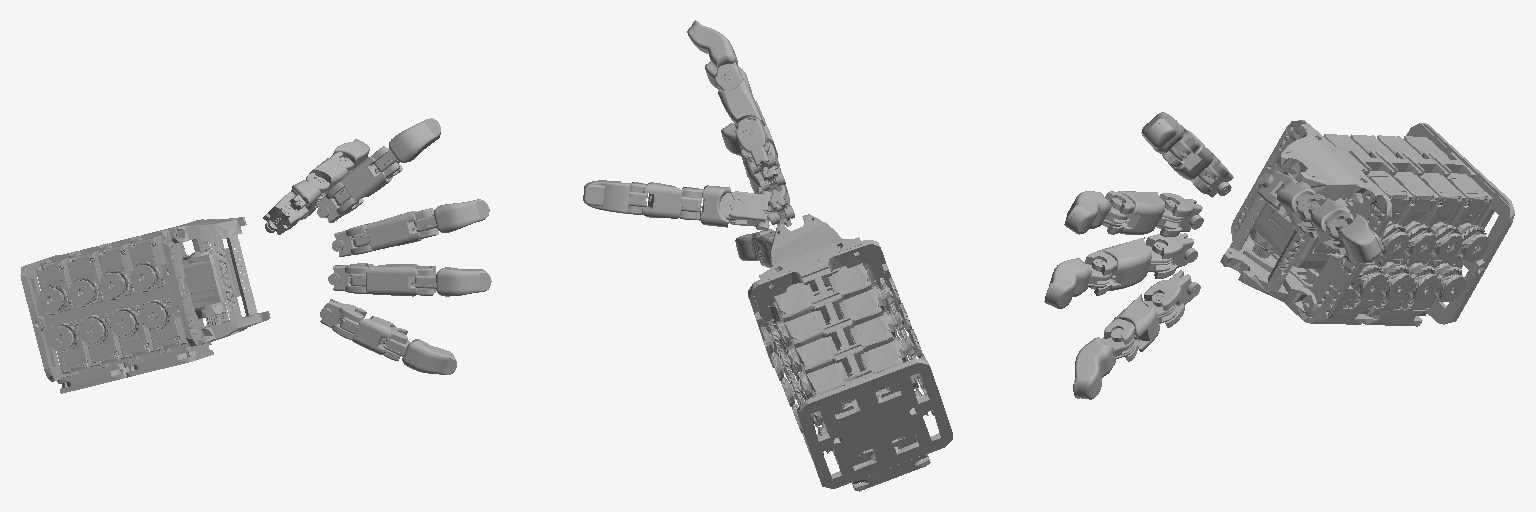
--- What the picture shows (computed from the rendered views, not written in the file) ---
Views: 3 orthographic renders of the robot side by side, from view 1: azimuth 30°, elevation 25°; view 2: azimuth 150°, elevation 25°; view 3: azimuth 270°, elevation 25°.
Robot: orca_v1 — 71 links, 70 joints (17 revolute, 53 fixed); root link eef_link; default pose: all joints at 0.
Visible links, largest first — view 1: tower, ring_pp, middle_pp, index_pp, index_mp, pinky_mp, ring_mp, middle_mp, pinky_pp, thumb_base, pinky_um, thumb_pp (+5 smaller); view 2: tower, thumb_mp, index_pp, thumb_pp, thumb_dp, index_mp, thumb_base, index_um, ring_um, middle_um, pinky_mp; view 3: tower, ring_pp, pinky_mp, middle_pp, pinky_pp, ring_mp, middle_mp, thumb_dp, index_mp, pinky_um, thumb_mp, index_pp (+5 smaller).
Link boxes in pixels (left/top/right/bottom): tower: left=20, top=217, right=270, bottom=393; ring_pp: left=350, top=264, right=435, bottom=296; middle_pp: left=352, top=208, right=438, bottom=250; index_pp: left=333, top=146, right=402, bottom=205; index_mp: left=374, top=118, right=440, bottom=171; pinky_mp: left=383, top=332, right=456, bottom=374; ring_mp: left=415, top=267, right=491, bottom=296; middle_mp: left=414, top=199, right=489, bottom=232; pinky_pp: left=340, top=312, right=407, bottom=360; thumb_base: left=263, top=192, right=308, bottom=234; pinky_um: left=320, top=299, right=366, bottom=339; thumb_pp: left=288, top=173, right=329, bottom=219; tower: left=748, top=214, right=952, bottom=491; thumb_mp: left=625, top=182, right=701, bottom=218; index_pp: left=714, top=65, right=767, bottom=143; thumb_pp: left=680, top=185, right=742, bottom=227; thumb_dp: left=583, top=180, right=647, bottom=213; index_mp: left=687, top=20, right=742, bottom=90; thumb_base: left=729, top=191, right=772, bottom=230; index_um: left=735, top=120, right=776, bottom=173; ring_um: left=757, top=185, right=794, bottom=226; middle_um: left=747, top=142, right=785, bottom=193; pinky_mp: left=735, top=229, right=773, bottom=260; tower: left=1220, top=120, right=1514, bottom=326; ring_pp: left=1085, top=237, right=1172, bottom=295; pinky_mp: left=1073, top=328, right=1134, bottom=399; middle_pp: left=1105, top=191, right=1182, bottom=234; pinky_pp: left=1104, top=293, right=1176, bottom=361; ring_mp: left=1044, top=258, right=1111, bottom=308; middle_mp: left=1064, top=191, right=1127, bottom=234; thumb_dp: left=1329, top=214, right=1383, bottom=263; index_mp: left=1141, top=112, right=1191, bottom=160; pinky_um: left=1144, top=270, right=1200, bottom=327; thumb_mp: left=1300, top=198, right=1353, bottom=254; index_pp: left=1160, top=125, right=1218, bottom=184.
Size in the robot's own frame: 0.2639 by 0.2568 by 0.2153 metres.
17 mesh visuals loaded from 10 distinct referenced files (9 binary STL); not drawn: 1 (reference not matched to a file when rendering).

URDF robot description (orca_v1):
<?xml version="1.0" ?>
<!-- =================================================================================== -->
<!-- |    This document was autogenerated by xacro from [local-path]/PCHands/adf/../assets/orca_v1/model_klampt.urdf | -->
<!-- |    EDITING THIS FILE BY HAND IS NOT RECOMMENDED                                 | -->
<!-- =================================================================================== -->
<!--
SPDX-FileCopyrightText: 2025 Humanoid Sensing and Perception, Istituto Italiano di Tecnologia
SPDX-License-Identifier: BSD-3-Clause
-->
<robot name="orca_v1">
  <!--  palm frame  -->
  <link name="eef_link">
    <inertial>
      <origin rpy="0 0 0" xyz="0 0 0"/>
      <mass value="0.0001"/>
      <inertia ixx="1e-5" ixy="0" ixz="0" iyy="1e-5" iyz="0" izz="1e-5"/>
    </inertial>
  </link>
  <joint name="r_eef_calib_joint" type="fixed">
    <parent link="eef_link"/>
    <child link="eef_calib_link"/>
    <origin rpy="-0.7315270809330702 1.091069841848649 -1.52907948913934" xyz="-0.10721888773777309 0.10555861361154992 -0.00850496411944658"/>
  </joint>
  <link name="eef_calib_link">
    <inertial>
      <origin rpy="0 0 0" xyz="0 0 0"/>
      <mass value="0.0001"/>
      <inertia ixx="1e-5" ixy="0" ixz="0" iyy="1e-5" iyz="0" izz="1e-5"/>
    </inertial>
  </link>
  <joint name="r_eef_fixed_joint" type="fixed">
    <parent link="eef_calib_link"/>
    <child link="hand_root"/>
    <origin rpy="0 0 0" xyz="0 0 0"/>
  </joint>
  <link name="hand_root">
    <inertial>
      <origin rpy="0.0 0.0 0.0" xyz="0.0 0.0 0.0"/>
      <mass value="0.0"/>
      <inertia ixx="0.0" ixy="0" ixz="0" iyy="0.0" iyz="0" izz="0.0"/>
    </inertial>
  </link>
  <link name="tower">
    <inertial>
      <origin rpy="-0.04390970715787945 -0.010429109452127383 1.5584993556360334" xyz="0.04400415913446807 -0.00019600571598279832 0.016186968516348432"/>
      <mass value="2.9399146871191753"/>
      <inertia ixx="0.004203087796313103" ixy="0" ixz="0" iyy="0.004033870993159062" iyz="0" izz="0.0021268483526808678"/>
    </inertial>
    <visual name="TowerAssembly">
      <origin rpy="-0.04390970715787934 -0.010429109452127161 1.5584993556360331" xyz="0.04400415913446807 -0.00019600571598279832 0.016186968516348432"/>
      <geometry>
        <mesh filename="mesh/converted_TowerAssembly.stl"/>
      </geometry>
      <material name="white"/>
    </visual>
  </link>
  <link name="root2tower_fixed_jointbody">
    <inertial>
      <origin rpy="0.0 0.0 0.0" xyz="0.0 0.0 0.0"/>
      <mass value="0.001"/>
      <inertia ixx="1e-09" ixy="0" ixz="0" iyy="1e-09" iyz="0" izz="1e-09"/>
    </inertial>
  </link>
  <joint name="root2tower_fixed" type="fixed">
    <parent link="hand_root"/>
    <child link="root2tower_fixed_jointbody"/>
    <origin rpy="0.0 0.0 0.0" xyz="0.0 0.0 0.0"/>
  </joint>
  <joint name="root2tower_fixed_offset" type="fixed">
    <parent link="root2tower_fixed_jointbody"/>
    <child link="tower"/>
    <origin rpy="0.0 0.0 0.0" xyz="-0.0 -0.0 -0.0"/>
  </joint>
  <link name="palm">
    <inertial>
      <origin rpy="1.5601655784799395 0.04189793519330931 1.5819461028160493" xyz="0.002881508885013908 -0.0012753763120547524 -0.00719047153594366"/>
      <mass value="0.2126860092978223"/>
      <inertia ixx="0.00012178343495389645" ixy="0" ixz="0" iyy="8.316880938872915e-05" iyz="0" izz="5.69755490120493e-05"/>
    </inertial>
    <visual name="CarpalsAssembly">
      <origin rpy="1.5601655784799395 0.041897935193309754 1.5819461028160493" xyz="0.002881508885013908 -0.0012753763120547524 -0.00719047153594366"/>
      <geometry>
        <mesh filename="mesh/converted_CarpalsAssembly.stl"/>
      </geometry>
      <material name="white"/>
    </visual>
  </link>
  <link name="tower2root_jointbody">
    <inertial>
      <origin rpy="0.0 0.0 0.0" xyz="0.0 0.0 0.0"/>
      <mass value="0.001"/>
      <inertia ixx="1e-09" ixy="0" ixz="0" iyy="1e-09" iyz="0" izz="1e-09"/>
    </inertial>
  </link>
  <joint name="tower2root" type="revolute">
    <parent link="tower"/>
    <child link="tower2root_jointbody"/>
    <origin rpy="-6.123233995736781e-17 -4.440892098500626e-16 1.942890293094021e-16" xyz="0.04062890845062731 3.686287386450715e-18 0.10237107458169505"/>
    <axis xyz="-1.0000000000000009 -1.4791141972893971e-31 -1.0947644252537633e-46"/>
    <limit effort="100" lower="-0.0" upper="0.0" velocity="100"/>
  </joint>
  <joint name="tower2root_offset" type="fixed">
    <parent link="tower2root_jointbody"/>
    <child link="palm"/>
    <origin rpy="0.0 0.0 0.0" xyz="-0.002000000000000012 0.0014412498723578018 0.03871931353519552"/>
  </joint>
  <link name="thumb_base">
    <inertial>
      <origin rpy="1.57634205707723 0.005687598820466988 1.5702436138290756" xyz="0.010529379149451916 -1.0212576814423867e-05 8.495774869309947e-06"/>
      <mass value="0.0074875144010899545"/>
      <inertia ixx="4.915455361035425e-07" ixy="0" ixz="0" iyy="4.2329004702934465e-07" iyz="0" izz="4.1073011191217545e-07"/>
    </inertial>
    <visual name="T-TP-Assembly">
      <origin rpy="1.5763420570772302 0.005687598820466988 1.5702436138290758" xyz="0.010529379149451916 -1.0212576814423867e-05 8.495774869309947e-06"/>
      <geometry>
        <mesh filename="mesh/converted_T-TP-Assembly.stl"/>
      </geometry>
      <material name="white"/>
    </visual>
  </link>
  <link name="root2thumb_base_jointbody">
    <inertial>
      <origin rpy="0.0 0.0 0.0" xyz="0.0 0.0 0.0"/>
      <mass value="0.001"/>
      <inertia ixx="1e-09" ixy="0" ixz="0" iyy="1e-09" iyz="0" izz="1e-09"/>
    </inertial>
  </link>
  <joint name="root2thumb_base" type="revolute">
    <parent link="palm"/>
    <child link="root2thumb_base_jointbody"/>
    <origin rpy="-2.623243999248972 0.36429799059196055 -1.2778314442697774" xyz="-0.026596228805379245 0.012467608905357173 -0.013731317517900202"/>
    <axis xyz="-2.920774733183862e-12 3.3306690738754696e-16 1.0000000000000002"/>
    <limit effort="100" lower="-0.9250245035569946" upper="0.8377580409572782" velocity="100"/>
  </joint>
  <joint name="root2thumb_base_offset" type="fixed">
    <parent link="root2thumb_base_jointbody"/>
    <child link="thumb_base"/>
    <origin rpy="0.0 0.0 0.0" xyz="-0.016999999999975042 -6.852157730108388e-17 -2.7301511745791984e-14"/>
  </joint>
  <link name="thumb_pp">
    <inertial>
      <origin rpy="1.626541463931455 -1.4723264578922137 1.5252609362500364" xyz="0.01701004352669714 4.7003303999020595e-05 -8.686628129100978e-05"/>
      <mass value="0.01402737042708516"/>
      <inertia ixx="1.3800850209807166e-06" ixy="0" ixz="0" iyy="1.1809029407566535e-06" iyz="0" izz="6.941321836664285e-07"/>
    </inertial>
    <visual name="T-AP-Assembly">
      <origin rpy="1.6265414639314582 -1.4723264578922137 1.5252609362500333" xyz="0.01701004352669714 4.7003303999020595e-05 -8.686628129100978e-05"/>
      <geometry>
        <mesh filename="mesh/converted_T-AP-Assembly.stl"/>
      </geometry>
      <material name="white"/>
    </visual>
  </link>
  <link name="thumb_base2pp_jointbody">
    <inertial>
      <origin rpy="0.0 0.0 0.0" xyz="0.0 0.0 0.0"/>
      <mass value="0.001"/>
      <inertia ixx="1e-09" ixy="0" ixz="0" iyy="1e-09" iyz="0" izz="1e-09"/>
    </inertial>
  </link>
  <joint name="thumb_base2pp" type="revolute">
    <parent link="thumb_base"/>
    <child link="thumb_base2pp_jointbody"/>
    <origin rpy="1.9198621771937625 2.220446049250313e-16 -1.1102230246251565e-16" xyz="-2.0816681711721685e-17 -0.006690243410563722 -0.00030669391648898483"/>
    <axis xyz="-1.1102230246251565e-16 0.34202014332566866 0.9396926207859075"/>
    <limit effort="100" lower="-0.7853981633974483" upper="0.7853981633974483" velocity="100"/>
  </joint>
  <joint name="thumb_base2pp_offset" type="fixed">
    <parent link="thumb_base2pp_jointbody"/>
    <child link="thumb_pp"/>
    <origin rpy="0.0 0.0 0.0" xyz="-0.03 -0.002 -0.0063916678614429154"/>
  </joint>
  <link name="thumb_mp">
    <inertial>
      <origin rpy="-0.0012564590227194135 0.024765536359687035 0.0006197733490160217" xyz="0.0014151363770926754 5.956925618599269e-06 0.013627702691985757"/>
      <mass value="0.015497848277221124"/>
      <inertia ixx="1.846626969865921e-06" ixy="0" ixz="0" iyy="1.771855178330145e-06" iyz="0" izz="6.563672279788464e-07"/>
    </inertial>
    <visual name="P-PP-Assembly">
      <origin rpy="-0.0012564590227194135 0.024765536359687035 0.0006197733490160217" xyz="0.0014151363770926754 5.956925618599269e-06 0.013627702691985757"/>
      <geometry>
        <mesh filename="mesh/converted_P-PP-Assembly.stl"/>
      </geometry>
      <material name="white"/>
    </visual>
  </link>
  <link name="thumb_pp2mp_jointbody">
    <inertial>
      <origin rpy="0.0 0.0 0.0" xyz="0.0 0.0 0.0"/>
      <mass value="0.001"/>
      <inertia ixx="1e-09" ixy="0" ixz="0" iyy="1e-09" iyz="0" izz="1e-09"/>
    </inertial>
  </link>
  <joint name="thumb_pp2mp" type="revolute">
    <parent link="thumb_pp"/>
    <child link="thumb_pp2mp_jointbody"/>
    <origin rpy="-3.1415926535897927 1.5707963267948948 0.0" xyz="4.708523807784693e-17 1.513645907263937e-16 -4.2834101494079344e-17"/>
    <axis xyz="-1.27675647831893e-15 -0.9999999999999994 4.996003610813204e-16"/>
    <limit effort="100" lower="-0.3490658503988659" upper="2.007128639793479" velocity="100"/>
  </joint>
  <joint name="thumb_pp2mp_offset" type="fixed">
    <parent link="thumb_pp2mp_jointbody"/>
    <child link="thumb_mp"/>
    <origin rpy="0.0 0.0 0.0" xyz="0.0 0.0 0.0"/>
  </joint>
  <link name="thumb_dp">
    <inertial>
      <origin rpy="0.0005042469448421566 -0.01731928165759511 -0.007693848109361373" xyz="0.0019263407363933048 1.4557758490367377e-05 0.013252605089620229"/>
      <mass value="0.01818889883021656"/>
      <inertia ixx="1.7342479877374563e-06" ixy="0" ixz="0" iyy="1.6928601517092007e-06" iyz="0" izz="6.72000990269703e-07"/>
    </inertial>
    <visual name="ThumbTipAssembly">
      <origin rpy="0.0005042469448421566 -0.01731928165759511 -0.007693848109361373" xyz="0.0019263407363933048 1.4557758490367377e-05 0.013252605089620229"/>
      <geometry>
        <mesh filename="mesh/converted_ThumbTipAssembly.stl"/>
      </geometry>
      <material name="white"/>
    </visual>
  </link>
  <link name="thumb_mp2dp_jointbody">
    <inertial>
      <origin rpy="0.0 0.0 0.0" xyz="0.0 0.0 0.0"/>
      <mass value="0.001"/>
      <inertia ixx="1e-09" ixy="0" ixz="0" iyy="1e-09" iyz="0" izz="1e-09"/>
    </inertial>
  </link>
  <joint name="thumb_mp2dp" type="revolute">
    <parent link="thumb_mp"/>
    <child link="thumb_mp2dp_jointbody"/>
    <origin rpy="-4.440892098500625e-16 -4.440892098500626e-16 -1.110223024625157e-15" xyz="0.0004999999999845258 1.960237527853792e-16 0.03299999999999989"/>
    <axis xyz="-1.3877787807814457e-16 -1.0000000000000018 1.6653345369377348e-16"/>
    <limit effort="100" lower="-0.3490658503988659" upper="1.7453292519943295" velocity="100"/>
  </joint>
  <joint name="thumb_mp2dp_offset" type="fixed">
    <parent link="thumb_mp2dp_jointbody"/>
    <child link="thumb_dp"/>
    <origin rpy="0.0 0.0 0.0" xyz="0.0 0.0 -0.0"/>
  </joint>
  <link name="thumb_fingertip">
    <inertial>
      <origin rpy="0.0 0.0 0.0" xyz="0.0 0.0 0.03"/>
      <mass value="0.0"/>
      <inertia ixx="0.0" ixy="0" ixz="0" iyy="0.0" iyz="0" izz="0.0"/>
    </inertial>
  </link>
  <link name="thumb_dp2thumb_fingertip_fixed_jointbody">
    <inertial>
      <origin rpy="0.0 0.0 0.0" xyz="0.0 0.0 0.0"/>
      <mass value="0.001"/>
      <inertia ixx="1e-09" ixy="0" ixz="0" iyy="1e-09" iyz="0" izz="1e-09"/>
    </inertial>
  </link>
  <joint name="thumb_dp2thumb_fingertip_fixed" type="fixed">
    <parent link="thumb_dp"/>
    <child link="thumb_dp2thumb_fingertip_fixed_jointbody"/>
    <origin rpy="0.0 0.0 0.0" xyz="0.0 0.0 0.03"/>
  </joint>
  <joint name="thumb_dp2thumb_fingertip_fixed_offset" type="fixed">
    <parent link="thumb_dp2thumb_fingertip_fixed_jointbody"/>
    <child link="thumb_fingertip"/>
    <origin rpy="0.0 0.0 0.0" xyz="-0.0 -0.0 -0.0"/>
  </joint>
  <link name="index_um">
    <inertial>
      <origin rpy="-0.7312124368167698 -1.5694148998517659 -2.4105624217590647" xyz="0.011354078973426326 -1.7071698548170895e-06 -3.5584781475470163e-06"/>
      <mass value="0.006625913032045117"/>
      <inertia ixx="4.786348664569036e-07" ixy="0" ixz="0" iyy="4.4192916777269033e-07" iyz="0" izz="2.7095034582421024e-07"/>
    </inertial>
    <visual name="AP-Assembly">
      <origin rpy="-0.7312124368167698 -1.5694148998517659 -2.4105624217590647" xyz="0.011354078973426326 -1.7071698548170895e-06 -3.5584781475470163e-06"/>
      <geometry>
        <mesh filename="mesh/converted_AP-Assembly.stl"/>
      </geometry>
      <material name="white"/>
    </visual>
  </link>
  <link name="index_abd_jointbody">
    <inertial>
      <origin rpy="0.0 0.0 0.0" xyz="0.0 0.0 0.0"/>
      <mass value="0.001"/>
      <inertia ixx="1e-09" ixy="0" ixz="0" iyy="1e-09" iyz="0" izz="1e-09"/>
    </inertial>
  </link>
  <joint name="index_abd" type="revolute">
    <parent link="palm"/>
    <child link="index_abd_jointbody"/>
    <origin rpy="1.608102038715379 1.1529632074851635 -0.051848338904223135" xyz="-0.02409178493002779 0.0019042822195537534 0.025160679302658893"/>
    <axis xyz="4.163336342344337e-17 9.992007221626409e-16 -1.0000000000000013"/>
    <limit effort="100" lower="-0.5235987755982988" upper="0.5235987755982988" velocity="100"/>
  </joint>
  <joint name="index_abd_offset" type="fixed">
    <parent link="index_abd_jointbody"/>
    <child link="index_um"/>
    <origin rpy="0.0 0.0 0.0" xyz="-0.020000000000000052 2.3852447794681098e-18 -4.336808689942018e-19"/>
  </joint>
  <link name="index_pp">
    <inertial>
      <origin rpy="-0.001102572366200157 0.015527459248408038 0.0006067795128342916" xyz="0.0014143363519175582 4.156494435167203e-06 0.01613338680226874"/>
      <mass value="0.018700586463984262"/>
      <inertia ixx="2.662336289616557e-06" ixy="0" ixz="0" iyy="2.5653412309208117e-06" iyz="0" izz="8.02677011751458e-07"/>
    </inertial>
    <visual name="I-PP-Assembly">
      <origin rpy="-0.001102572366200157 0.015527459248408038 0.0006067795128342916" xyz="0.0014143363519175582 4.156494435167203e-06 0.01613338680226874"/>
      <geometry>
        <mesh filename="mesh/converted_I-PP-Assembly.stl"/>
      </geometry>
      <material name="white"/>
    </visual>
  </link>
  <link name="root2index_pp_jointbody">
    <inertial>
      <origin rpy="0.0 0.0 0.0" xyz="0.0 0.0 0.0"/>
      <mass value="0.001"/>
      <inertia ixx="1e-09" ixy="0" ixz="0" iyy="1e-09" iyz="0" izz="1e-09"/>
    </inertial>
  </link>
  <joint name="root2index_pp" type="revolute">
    <parent link="index_um"/>
    <child link="root2index_pp_jointbody"/>
    <origin rpy="-7.850462293418875e-17 -1.5707963267948963 0.0" xyz="-2.5541056475587942e-17 1.0557908552474885e-17 -8.628646044820514e-18"/>
    <axis xyz="-1.1102230246251565e-15 -0.9999999999999998 -8.326672684688674e-17"/>
    <limit effort="100" lower="-0.3490658503988659" upper="1.9198621771937625" velocity="100"/>
  </joint>
  <joint name="root2index_pp_offset" type="fixed">
    <parent link="root2index_pp_jointbody"/>
    <child link="index_pp"/>
    <origin rpy="0.0 0.0 0.0" xyz="8.62864604482052e-18 -1.0557908552474884e-17 -2.5541056475587933e-17"/>
  </joint>
  <link name="index_mp">
    <inertial>
      <origin rpy="-0.0002952414540531474 -0.13694120498566353 0.004582776782163111" xyz="0.0004395758025904904 2.294210842752089e-05 0.017234999921076924"/>
      <mass value="0.018229214728618118"/>
      <inertia ixx="2.7483316705449915e-06" ixy="0" ixz="0" iyy="2.7260398150926247e-06" iyz="0" izz="5.982307965118894e-07"/>
    </inertial>
    <visual name="FingerTipAssembly">
      <origin rpy="-0.0002952414540531474 -0.13694120498566353 0.004582776782163111" xyz="0.0004395758025904904 2.294210842752089e-05 0.017234999921076924"/>
      <geometry>
        <mesh filename="mesh/converted_FingerTipAssembly.stl"/>
      </geometry>
      <material name="white"/>
    </visual>
  </link>
  <link name="index_pp2mp_jointbody">
    <inertial>
      <origin rpy="0.0 0.0 0.0" xyz="0.0 0.0 0.0"/>
      <mass value="0.001"/>
      <inertia ixx="1e-09" ixy="0" ixz="0" iyy="1e-09" iyz="0" izz="1e-09"/>
    </inertial>
  </link>
  <joint name="index_pp2mp" type="revolute">
    <parent link="index_pp"/>
    <child link="index_pp2mp_jointbody"/>
    <origin rpy="0.0 0.0 1.1102230246251565e-16" xyz="0.0004999999999839601 6.589248156966668e-17 0.038"/>
    <axis xyz="-1.1102230246251565e-15 -0.9999999999999998 -8.326672684688674e-17"/>
    <limit effort="100" lower="-0.3490658503988659" upper="2.2689280275926285" velocity="100"/>
  </joint>
  <joint name="index_pp2mp_offset" type="fixed">
    <parent link="index_pp2mp_jointbody"/>
    <child link="index_mp"/>
    <origin rpy="0.0 0.0 0.0" xyz="4.506562989359519e-18 -5.895358766575946e-17 -6.487401240321147e-17"/>
  </joint>
  <link name="index_fingertip">
    <inertial>
      <origin rpy="0.0 0.0 0.0" xyz="-0.009 0.0 0.04"/>
      <mass value="0.0"/>
      <inertia ixx="0.0" ixy="0" ixz="0" iyy="0.0" iyz="0" izz="0.0"/>
    </inertial>
  </link>
  <link name="index_mp2index_fingertip_fixed_jointbody">
    <inertial>
      <origin rpy="0.0 0.0 0.0" xyz="0.0 0.0 0.0"/>
      <mass value="0.001"/>
      <inertia ixx="1e-09" ixy="0" ixz="0" iyy="1e-09" iyz="0" izz="1e-09"/>
    </inertial>
  </link>
  <joint name="index_mp2index_fingertip_fixed" type="fixed">
    <parent link="index_mp"/>
    <child link="index_mp2index_fingertip_fixed_jointbody"/>
    <origin rpy="0.0 0.0 0.0" xyz="-0.009 0.0 0.04"/>
  </joint>
  <joint name="index_mp2index_fingertip_fixed_offset" type="fixed">
    <parent link="index_mp2index_fingertip_fixed_jointbody"/>
    <child link="index_fingertip"/>
    <origin rpy="0.0 0.0 0.0" xyz="-0.0 -0.0 -0.0"/>
  </joint>
  <link name="pinky_um">
    <inertial>
      <origin rpy="-0.7312124368167698 -1.5694148998517659 -2.4105624217590647" xyz="0.011354078973426326 -1.7071698548170895e-06 -3.5584781475470163e-06"/>
      <mass value="0.006625913032045117"/>
      <inertia ixx="4.786348664569036e-07" ixy="0" ixz="0" iyy="4.4192916777269033e-07" iyz="0" izz="2.7095034582421024e-07"/>
    </inertial>
    <visual name="AP-Assembly">
      <origin rpy="-0.7312124368167698 -1.5694148998517659 -2.4105624217590647" xyz="0.011354078973426326 -1.7071698548170895e-06 -3.5584781475470163e-06"/>
      <geometry>
        <mesh filename="mesh/converted_AP-Assembly.stl"/>
      </geometry>
      <material name="white"/>
    </visual>
  </link>
  <link name="pinky_abd_jointbody">
    <inertial>
      <origin rpy="0.0 0.0 0.0" xyz="0.0 0.0 0.0"/>
      <mass value="0.001"/>
      <inertia ixx="1e-09" ixy="0" ixz="0" iyy="1e-09" iyz="0" izz="1e-09"/>
    </inertial>
  </link>
  <joint name="pinky_abd" type="revolute">
    <parent link="palm"/>
    <child link="pinky_abd_jointbody"/>
    <origin rpy="-1.4969430651841689 0.8614853700810636 -2.883730096597108" xyz="0.04258768282792981 0.004991925321003577 0.007247738795820427"/>
    <axis xyz="1.942890293094024e-16 -5.551115123125783e-16 -0.9999999999999997"/>
    <limit effort="100" lower="-0.5235987755982988" upper="0.5235987755982988" velocity="100"/>
  </joint>
  <joint name="pinky_abd_offset" type="fixed">
    <parent link="pinky_abd_jointbody"/>
    <child link="pinky_um"/>
    <origin rpy="0.0 0.0 0.0" xyz="-0.020000000000000014 -2.42861286636753e-17 -6.071532165918825e-18"/>
  </joint>
  <link name="pinky_pp">
    <inertial>
      <origin rpy="-0.0012564590227194135 0.024765536359687035 0.0006197733490160217" xyz="0.0014151363770926754 5.956925618599269e-06 0.013627702691985757"/>
      <mass value="0.015497848277221124"/>
      <inertia ixx="1.846626969865921e-06" ixy="0" ixz="0" iyy="1.771855178330145e-06" iyz="0" izz="6.563672279788464e-07"/>
    </inertial>
    <visual name="P-PP-Assembly">
      <origin rpy="-0.0012564590227194135 0.024765536359687035 0.0006197733490160217" xyz="0.0014151363770926754 5.956925618599269e-06 0.013627702691985757"/>
      <geometry>
        <mesh filename="mesh/converted_P-PP-Assembly.stl"/>
      </geometry>
      <material name="white"/>
    </visual>
  </link>
  <link name="root2pinky_pp_jointbody">
    <inertial>
      <origin rpy="0.0 0.0 0.0" xyz="0.0 0.0 0.0"/>
      <mass value="0.001"/>
      <inertia ixx="1e-09" ixy="0" ixz="0" iyy="1e-09" iyz="0" izz="1e-09"/>
    </inertial>
  </link>
  <joint name="root2pinky_pp" type="revolute">
    <parent link="pinky_um"/>
    <child link="root2pinky_pp_jointbody"/>
    <origin rpy="7.850462293418872e-17 -1.5707963267948961 0.0" xyz="-9.80194474041885e-17 2.8970456895533516e-17 -1.0346526674750982e-18"/>
    <axis xyz="-1.6653345369377348e-16 -1.0000000000000004 -2.220446049250313e-16"/>
    <limit effort="100" lower="-0.3490658503988659" upper="1.9198621771937625" velocity="100"/>
  </joint>
  <joint name="root2pinky_pp_offset" type="fixed">
    <parent link="root2pinky_pp_jointbody"/>
    <child link="pinky_pp"/>
    <origin rpy="0.0 0.0 0.0" xyz="-3.4409772224679328e-18 -3.9175276362032155e-17 -1.0647123163719203e-16"/>
  </joint>
  <link name="pinky_mp">
    <inertial>
      <origin rpy="-0.0002952414540531474 -0.13694120498566353 0.004582776782163111" xyz="0.0004395758025904904 2.294210842752089e-05 0.017234999921076924"/>
      <mass value="0.018229214728618118"/>
      <inertia ixx="2.7483316705449915e-06" ixy="0" ixz="0" iyy="2.7260398150926247e-06" iyz="0" izz="5.982307965118894e-07"/>
    </inertial>
    <visual name="FingerTipAssembly">
      <origin rpy="-0.0002952414540531474 -0.13694120498566353 0.004582776782163111" xyz="0.0004395758025904904 2.294210842752089e-05 0.017234999921076924"/>
      <geometry>
        <mesh filename="mesh/converted_FingerTipAssembly.stl"/>
      </geometry>
      <material name="white"/>
    </visual>
  </link>
  <link name="pinky_pp2mp_jointbody">
    <inertial>
      <origin rpy="0.0 0.0 0.0" xyz="0.0 0.0 0.0"/>
      <mass value="0.001"/>
      <inertia ixx="1e-09" ixy="0" ixz="0" iyy="1e-09" iyz="0" izz="1e-09"/>
    </inertial>
  </link>
  <joint name="pinky_pp2mp" type="revolute">
    <parent link="pinky_pp"/>
    <child link="pinky_pp2mp_jointbody"/>
    <origin rpy="-1.1102230246251565e-16 0.0 -1.1102230246251565e-16" xyz="0.0004999999999844908 -2.39390297194962e-18 0.032999999999999946"/>
    <axis xyz="-2.7755575615628914e-16 -1.0000000000000007 -2.498001805406602e-16"/>
    <limit effort="100" lower="-0.3490658503988659" upper="2.2689280275926285" velocity="100"/>
  </joint>
  <joint name="pinky_pp2mp_offset" type="fixed">
    <parent link="pinky_pp2mp_jointbody"/>
    <child link="pinky_mp"/>
    <origin rpy="0.0 0.0 0.0" xyz="4.630531374131085e-18 3.7088372491485756e-17 3.145406773126967e-17"/>
  </joint>
  <link name="pinky_fingertip">
    <inertial>
      <origin rpy="0.0 0.0 0.0" xyz="-0.009 0.0 0.04"/>
      <mass value="0.0"/>
      <inertia ixx="0.0" ixy="0" ixz="0" iyy="0.0" iyz="0" izz="0.0"/>
    </inertial>
  </link>
  <link name="pinky_mp2pinky_fingertip_fixed_jointbody">
    <inertial>
      <origin rpy="0.0 0.0 0.0" xyz="0.0 0.0 0.0"/>
      <mass value="0.001"/>
      <inertia ixx="1e-09" ixy="0" ixz="0" iyy="1e-09" iyz="0" izz="1e-09"/>
    </inertial>
  </link>
  <joint name="pinky_mp2pinky_fingertip_fixed" type="fixed">
    <parent link="pinky_mp"/>
    <child link="pinky_mp2pinky_fingertip_fixed_jointbody"/>
    <origin rpy="0.0 0.0 0.0" xyz="-0.009 0.0 0.04"/>
  </joint>
  <joint name="pinky_mp2pinky_fingertip_fixed_offset" type="fixed">
    <parent link="pinky_mp2pinky_fingertip_fixed_jointbody"/>
    <child link="pinky_fingertip"/>
    <origin rpy="0.0 0.0 0.0" xyz="-0.0 -0.0 -0.0"/>
  </joint>
  <link name="middle_um">
    <inertial>
      <origin rpy="-0.7312124368167698 -1.5694148998517659 -2.4105624217590647" xyz="0.011354078973426326 -1.7071698548170895e-06 -3.5584781475470163e-06"/>
      <mass value="0.006625913032045117"/>
      <inertia ixx="4.786348664569036e-07" ixy="0" ixz="0" iyy="4.4192916777269033e-07" iyz="0" izz="2.7095034582421024e-07"/>
    </inertial>
    <visual name="AP-Assembly">
      <origin rpy="-0.7312124368167698 -1.5694148998517659 -2.4105624217590647" xyz="0.011354078973426326 -1.7071698548170895e-06 -3.5584781475470163e-06"/>
      <geometry>
        <mesh filename="mesh/converted_AP-Assembly.stl"/>
      </geometry>
      <material name="white"/>
    </visual>
  </link>
  <link name="middle_abd_jointbody">
    <inertial>
      <origin rpy="0.0 0.0 0.0" xyz="0.0 0.0 0.0"/>
      <mass value="0.001"/>
      <inertia ixx="1e-09" ixy="0" ixz="0" iyy="1e-09" iyz="0" izz="1e-09"/>
    </inertial>
  </link>
  <joint name="middle_abd" type="revolute">
    <parent link="palm"/>
    <child link="middle_abd_jointbody"/>
    <origin rpy="1.5707963267948966 1.5707963267948966 0.0" xyz="4.881579836291013e-18 -8.567697285510997e-18 0.03"/>
    <axis xyz="-9.645057161491277e-31 -1.6653345369377348e-16 -0.9999999999999998"/>
    <limit effort="100" lower="-0.5235987755982988" upper="0.5235987755982988" velocity="100"/>
  </joint>
  <joint name="middle_abd_offset" type="fixed">
    <parent link="middle_abd_jointbody"/>
    <child link="middle_um"/>
    <origin rpy="0.0 0.0 0.0" xyz="-0.019999999999999987 -3.771356811665857e-18 1.701695755040975e-18"/>
  </joint>
  <link name="middle_pp">
    <inertial>
      <origin rpy="-0.0008675700761155622 0.013815007172908844 0.001849376719566181" xyz="0.0015215641155183913 3.409155126104343e-06 0.019988197676665105"/>
      <mass value="0.023556963904505242"/>
      <inertia ixx="4.4203229364973464e-06" ixy="0" ixz="0" iyy="4.276694367220302e-06" iyz="0" izz="1.0089823927588865e-06"/>
    </inertial>
    <visual name="M-PP-Assembly">
      <origin rpy="-0.000867570076115562 0.013815007172908844 0.0018493767195661807" xyz="0.0015215641155183913 3.409155126104343e-06 0.019988197676665105"/>
      <geometry>
        <mesh filename="mesh/converted_M-PP-Assembly.stl"/>
      </geometry>
      <material name="white"/>
    </visual>
  </link>
  <link name="root2middle_pp_jointbody">
    <inertial>
      <origin rpy="0.0 0.0 0.0" xyz="0.0 0.0 0.0"/>
      <mass value="0.001"/>
      <inertia ixx="1e-09" ixy="0" ixz="0" iyy="1e-09" iyz="0" izz="1e-09"/>
    </inertial>
  </link>
  <joint name="root2middle_pp" type="revolute">
    <parent link="middle_um"/>
    <child link="root2middle_pp_jointbody"/>
    <origin rpy="0.0 -1.5707963267948963 0.0" xyz="-8.326672684688675e-17 1.0477058897466563e-31 9.860761315262648e-32"/>
    <axis xyz="1.1102230246251565e-16 -1.0000000000000004 -2.7755575615628914e-17"/>
    <limit effort="100" lower="-0.3490658503988659" upper="1.9198621771937625" velocity="100"/>
  </joint>
  <joint name="root2middle_pp_offset" type="fixed">
    <parent link="root2middle_pp_jointbody"/>
    <child link="middle_pp"/>
    <origin rpy="0.0 0.0 0.0" xyz="-8.011868568650901e-32 -1.0477058897466563e-31 -8.326672684688675e-17"/>
  </joint>
  <link name="middle_mp">
    <inertial>
      <origin rpy="-0.0002952414540531474 -0.13694120498566353 0.004582776782163111" xyz="0.0004395758025904904 2.294210842752089e-05 0.017234999921076924"/>
      <mass value="0.018229214728618118"/>
      <inertia ixx="2.7483316705449915e-06" ixy="0" ixz="0" iyy="2.7260398150926247e-06" iyz="0" izz="5.982307965118894e-07"/>
    </inertial>
    <visual name="FingerTipAssembly">
      <origin rpy="-0.0002952414540531474 -0.13694120498566353 0.004582776782163111" xyz="0.0004395758025904904 2.294210842752089e-05 0.017234999921076924"/>
      <geometry>
        <mesh filename="mesh/converted_FingerTipAssembly.stl"/>
      </geometry>
      <material name="white"/>
    </visual>
  </link>
  <link name="middle_pp2mp_jointbody">
    <inertial>
      <origin rpy="0.0 0.0 0.0" xyz="0.0 0.0 0.0"/>
      <mass value="0.001"/>
      <inertia ixx="1e-09" ixy="0" ixz="0" iyy="1e-09" iyz="0" izz="1e-09"/>
    </inertial>
  </link>
  <joint name="middle_pp2mp" type="revolute">
    <parent link="middle_pp"/>
    <child link="middle_pp2mp_jointbody"/>
    <origin rpy="0.0 0.0 0.0" xyz="0.0004999999999727624 -3.4694469519535125e-18 0.04600000000000015"/>
    <axis xyz="1.1102230246251565e-16 -1.0000000000000004 -2.7755575615628914e-17"/>
    <limit effort="100" lower="-0.3490658503988659" upper="2.2689280275926285" velocity="100"/>
  </joint>
  <joint name="middle_pp2mp_offset" type="fixed">
    <parent link="middle_pp2mp_jointbody"/>
    <child link="middle_mp"/>
    <origin rpy="0.0 0.0 0.0" xyz="-5.421010862428354e-19 -1.0168910106364605e-31 -8.326672684688675e-17"/>
  </joint>
  <link name="middle_fingertip">
    <inertial>
      <origin rpy="0.0 0.0 0.0" xyz="-0.009 0.0 0.04"/>
      <mass value="0.0"/>
      <inertia ixx="0.0" ixy="0" ixz="0" iyy="0.0" iyz="0" izz="0.0"/>
    </inertial>
  </link>
  <link name="middle_mp2middle_fingertip_fixed_jointbody">
    <inertial>
      <origin rpy="0.0 0.0 0.0" xyz="0.0 0.0 0.0"/>
      <mass value="0.001"/>
      <inertia ixx="1e-09" ixy="0" ixz="0" iyy="1e-09" iyz="0" izz="1e-09"/>
    </inertial>
  </link>
  <joint name="middle_mp2middle_fingertip_fixed" type="fixed">
    <parent link="middle_mp"/>
    <child link="middle_mp2middle_fingertip_fixed_jointbody"/>
    <origin rpy="0.0 0.0 0.0" xyz="-0.009 0.0 0.04"/>
  </joint>
  <joint name="middle_mp2middle_fingertip_fixed_offset" type="fixed">
    <parent link="middle_mp2middle_fingertip_fixed_jointbody"/>
    <child link="middle_fingertip"/>
    <origin rpy="0.0 0.0 0.0" xyz="-0.0 -0.0 -0.0"/>
  </joint>
  <link name="ring_um">
    <inertial>
      <origin rpy="-0.7312124368167698 -1.5694148998517659 -2.4105624217590647" xyz="0.011354078973426326 -1.7071698548170895e-06 -3.5584781475470163e-06"/>
      <mass value="0.006625913032045117"/>
      <inertia ixx="4.786348664569036e-07" ixy="0" ixz="0" iyy="4.4192916777269033e-07" iyz="0" izz="2.7095034582421024e-07"/>
    </inertial>
    <visual name="AP-Assembly">
      <origin rpy="-0.7312124368167698 -1.5694148998517659 -2.4105624217590647" xyz="0.011354078973426326 -1.7071698548170895e-06 -3.5584781475470163e-06"/>
      <geometry>
        <mesh filename="mesh/converted_AP-Assembly.stl"/>
      </geometry>
      <material name="white"/>
    </visual>
  </link>
  <link name="ring_abd_jointbody">
    <inertial>
      <origin rpy="0.0 0.0 0.0" xyz="0.0 0.0 0.0"/>
      <mass value="0.001"/>
      <inertia ixx="1e-09" ixy="0" ixz="0" iyy="1e-09" iyz="0" izz="1e-09"/>
    </inertial>
  </link>
  <joint name="ring_abd" type="revolute">
    <parent link="palm"/>
    <child link="ring_abd_jointbody"/>
    <origin rpy="-1.5359724334240115 1.3083608795701225 -3.054411807001147" xyz="0.02151626244325177 0.001539966070889325 0.02082193721565796"/>
    <axis xyz="2.0816681711721685e-16 -1.1102230246251565e-16 -0.9999999999999998"/>
    <limit effort="100" lower="-0.5235987755982988" upper="0.5235987755982988" velocity="100"/>
  </joint>
  <joint name="ring_abd_offset" type="fixed">
    <parent link="ring_abd_jointbody"/>
    <child link="ring_um"/>
    <origin rpy="0.0 0.0 0.0" xyz="-0.020000000000000052 4.640385298237959e-17 -5.421010862427522e-18"/>
  </joint>
  <link name="ring_pp">
    <inertial>
      <origin rpy="-0.0008675700761155622 0.013815007172908844 0.001849376719566181" xyz="0.0015215641155183913 3.409155126104343e-06 0.019988197676665105"/>
      <mass value="0.023556963904505242"/>
      <inertia ixx="4.4203229364973464e-06" ixy="0" ixz="0" iyy="4.276694367220302e-06" iyz="0" izz="1.0089823927588865e-06"/>
    </inertial>
    <visual name="M-PP-Assembly">
      <origin rpy="-0.000867570076115562 0.013815007172908844 0.0018493767195661807" xyz="0.0015215641155183913 3.409155126104343e-06 0.019988197676665105"/>
      <geometry>
        <mesh filename="mesh/converted_M-PP-Assembly.stl"/>
      </geometry>
      <material name="white"/>
    </visual>
  </link>
  <link name="root2ring_pp_jointbody">
    <inertial>
      <origin rpy="0.0 0.0 0.0" xyz="0.0 0.0 0.0"/>
      <mass value="0.001"/>
      <inertia ixx="1e-09" ixy="0" ixz="0" iyy="1e-09" iyz="0" izz="1e-09"/>
    </inertial>
  </link>
  <joint name="root2ring_pp" type="revolute">
    <parent link="ring_um"/>
    <child link="root2ring_pp_jointbody"/>
    <origin rpy="0.0 -1.5707963267948963 0.0" xyz="5.000422469950927e-17 2.7821222532288604e-17 -6.247486316027035e-19"/>
    <axis xyz="0.0 -0.9999999999999998 -5.551115123125783e-17"/>
    <limit effort="100" lower="-0.3490658503988659" upper="1.9198621771937625" velocity="100"/>
  </joint>
  <joint name="root2ring_pp_offset" type="fixed">
    <parent link="root2ring_pp_jointbody"/>
    <child link="ring_pp"/>
    <origin rpy="0.0 0.0 0.0" xyz="6.247486316026924e-19 -2.7821222532288604e-17 5.000422469950927e-17"/>
  </joint>
  <link name="ring_mp">
    <inertial>
      <origin rpy="-0.0002952414540531474 -0.13694120498566353 0.004582776782163111" xyz="0.0004395758025904904 2.294210842752089e-05 0.017234999921076924"/>
      <mass value="0.018229214728618118"/>
      <inertia ixx="2.7483316705449915e-06" ixy="0" ixz="0" iyy="2.7260398150926247e-06" iyz="0" izz="5.982307965118894e-07"/>
    </inertial>
    <visual name="FingerTipAssembly">
      <origin rpy="-0.0002952414540531474 -0.13694120498566353 0.004582776782163111" xyz="0.0004395758025904904 2.294210842752089e-05 0.017234999921076924"/>
      <geometry>
        <mesh filename="mesh/converted_FingerTipAssembly.stl"/>
      </geometry>
      <material name="white"/>
    </visual>
  </link>
  <link name="ring_pp2mp_jointbody">
    <inertial>
      <origin rpy="0.0 0.0 0.0" xyz="0.0 0.0 0.0"/>
      <mass value="0.001"/>
      <inertia ixx="1e-09" ixy="0" ixz="0" iyy="1e-09" iyz="0" izz="1e-09"/>
    </inertial>
  </link>
  <joint name="ring_pp2mp" type="revolute">
    <parent link="ring_pp"/>
    <child link="ring_pp2mp_jointbody"/>
    <origin rpy="5.551115123125783e-17 0.0 1.1102230246251565e-16" xyz="0.0004999999999727536 -3.2334689427772335e-19 0.046000000000000194"/>
    <axis xyz="0.0 -0.9999999999999998 -5.551115123125783e-17"/>
    <limit effort="100" lower="-0.3490658503988659" upper="2.2689280275926285" velocity="100"/>
  </joint>
  <joint name="ring_pp2mp_offset" type="fixed">
    <parent link="ring_pp2mp_jointbody"/>
    <child link="ring_mp"/>
    <origin rpy="0.0 0.0 0.0" xyz="6.5371804131346096e-18 1.5935858178068978e-17 -1.6822041242320552e-16"/>
  </joint>
  <link name="ring_fingertip">
    <inertial>
      <origin rpy="0.0 0.0 0.0" xyz="-0.009 0.0 0.04"/>
      <mass value="0.0"/>
      <inertia ixx="0.0" ixy="0" ixz="0" iyy="0.0" iyz="0" izz="0.0"/>
    </inertial>
  </link>
  <link name="ring_mp2ring_fingertip_fixed_jointbody">
    <inertial>
      <origin rpy="0.0 0.0 0.0" xyz="0.0 0.0 0.0"/>
      <mass value="0.001"/>
      <inertia ixx="1e-09" ixy="0" ixz="0" iyy="1e-09" iyz="0" izz="1e-09"/>
    </inertial>
  </link>
  <joint name="ring_mp2ring_fingertip_fixed" type="fixed">
    <parent link="ring_mp"/>
    <child link="ring_mp2ring_fingertip_fixed_jointbody"/>
    <origin rpy="0.0 0.0 0.0" xyz="-0.009 0.0 0.04"/>
  </joint>
  <joint name="ring_mp2ring_fingertip_fixed_offset" type="fixed">
    <parent link="ring_mp2ring_fingertip_fixed_jointbody"/>
    <child link="ring_fingertip"/>
    <origin rpy="0.0 0.0 0.0" xyz="-0.0 -0.0 -0.0"/>
  </joint>
  <material name="white">
    <color rgba="0.700 0.700 0.700 1"/>
  </material>
  <!--  anchor  -->
  <link name="A_00"/>
  <link name="A_01"/>
  <link name="A_02"/>
  <link name="A_03"/>
  <link name="A_04"/>
  <link name="A_05"/>
  <link name="A_06"/>
  <link name="A_07"/>
  <link name="A_08"/>
  <link name="A_09"/>
  <link name="A_10"/>
  <link name="A_11"/>
  <link name="A_12"/>
  <link name="A_13"/>
  <link name="A_14"/>
  <link name="A_15"/>
  <link name="A_16"/>
  <link name="A_17"/>
  <link name="A_18"/>
  <link name="A_19"/>
  <link name="A_20"/>
  <link name="A_21"/>
  <!-- Thumb Anchors -->
  <joint name="joint_A_00" type="fixed">
    <parent link="thumb_base"/>
    <child link="A_00"/>
    <origin rpy="0 0 0" xyz="0 -0.01 0"/>
  </joint>
  <joint name="joint_A_01" type="fixed">
    <parent link="thumb_mp"/>
    <child link="A_01"/>
    <origin rpy="0 0 0" xyz="-0.01 0 0"/>
  </joint>
  <joint name="joint_A_02" type="fixed">
    <parent link="thumb_dp"/>
    <child link="A_02"/>
    <origin rpy="0 0 0" xyz="-0.01 0 0"/>
  </joint>
  <joint name="joint_A_03" type="fixed">
    <parent link="thumb_fingertip"/>
    <child link="A_03"/>
    <origin rpy="0 0 0" xyz="0 0 0"/>
  </joint>
  <!-- Index Finger Anchors -->
  <joint name="joint_A_04" type="fixed">
    <parent link="index_pp"/>
    <child link="A_04"/>
    <origin rpy="0 0 0" xyz="-0.01 0.0 0.01"/>
  </joint>
  <joint name="joint_A_05" type="fixed">
    <parent link="index_mp"/>
    <child link="A_05"/>
    <origin rpy="0 0 0" xyz="-0.01 0.0 -0.0"/>
  </joint>
  <joint name="joint_A_06" type="fixed">
    <parent link="index_mp"/>
    <!-- Your model has no index_dp, so attached to last physical segment -->
    <child link="A_06"/>
    <origin rpy="0 0 0" xyz="-0.01 0.0 0.02"/>
  </joint>
  <joint name="joint_A_07" type="fixed">
    <parent link="index_fingertip"/>
    <child link="A_07"/>
    <origin rpy="0 0 0" xyz="0 0 0"/>
  </joint>
  <!-- Middle Finger Anchors -->
  <joint name="joint_A_08" type="fixed">
    <parent link="middle_pp"/>
    <child link="A_08"/>
    <origin rpy="0 0 0" xyz="-0.01 0.0 0.01"/>
  </joint>
  <joint name="joint_A_09" type="fixed">
    <parent link="middle_mp"/>
    <child link="A_09"/>
    <origin rpy="0 0 0" xyz="-0.01 0.0 -0.0"/>
  </joint>
  <joint name="joint_A_10" type="fixed">
    <parent link="middle_mp"/>
    <!-- Your model has no middle_dp, so attached to last physical segment -->
    <child link="A_10"/>
    <origin rpy="0 0 0" xyz="-0.01 0.0 0.02"/>
  </joint>
  <joint name="joint_A_11" type="fixed">
    <parent link="middle_fingertip"/>
    <child link="A_11"/>
    <origin rpy="0 0 0" xyz="0 0 0"/>
  </joint>
  <!-- Ring Finger Anchors -->
  <joint name="joint_A_12" type="fixed">
    <parent link="ring_pp"/>
    <child link="A_12"/>
    <origin rpy="0 0 0" xyz="-0.01 0.0 0.01"/>
  </joint>
  <joint name="joint_A_13" type="fixed">
    <parent link="ring_mp"/>
    <child link="A_13"/>
    <origin rpy="0 0 0" xyz="-0.01 0.0 -0.0"/>
  </joint>
  <joint name="joint_A_14" type="fixed">
    <parent link="ring_mp"/>
    <!-- Your model has no ring_dp, so attached to last physical segment -->
    <child link="A_14"/>
    <origin rpy="0 0 0" xyz="-0.01 0.0 0.02"/>
  </joint>
  <joint name="joint_A_15" type="fixed">
    <parent link="ring_fingertip"/>
    <child link="A_15"/>
    <origin rpy="0 0 0" xyz="0 0 0"/>
  </joint>
  <!-- Pinky Finger Anchors -->
  <joint name="joint_A_16" type="fixed">
    <parent link="pinky_pp"/>
    <child link="A_16"/>
    <origin rpy="0 0 0" xyz="-0.01 0.0 0.01"/>
  </joint>
  <joint name="joint_A_17" type="fixed">
    <parent link="pinky_mp"/>
    <child link="A_17"/>
    <origin rpy="0 0 0" xyz="-0.01 0.0 -0.0"/>
  </joint>
  <joint name="joint_A_18" type="fixed">
    <parent link="pinky_mp"/>
    <!-- Your model has no pinky_dp, so attached to last physical segment -->
    <child link="A_18"/>
    <origin rpy="0 0 0" xyz="-0.01 0.0 0.02"/>
  </joint>
  <joint name="joint_A_19" type="fixed">
    <parent link="pinky_fingertip"/>
    <child link="A_19"/>
    <origin rpy="0 0 0" xyz="0 0 0"/>
  </joint>
  <!-- Knuckle/Palm Area Anchors -->
  <joint name="joint_A_20" type="fixed">
    <parent link="palm"/>
    <!-- Corresponds to the pinky knuckle area -->
    <child link="A_20"/>
    <origin rpy="0 0 0" xyz="-0.015 0.01 0"/>
  </joint>
  <joint name="joint_A_21" type="fixed">
    <parent link="palm"/>
    <!-- Corresponds to the index knuckle area -->
    <child link="A_21"/>
    <origin rpy="0 0 0" xyz="0.03 0.015 0"/>
  </joint>
  <klampt freeze_root_link="1" use_vis_geom="1"/>
</robot>
